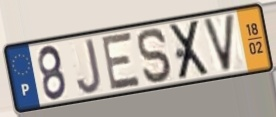8: (36, 43, 68, 103)
E: (100, 30, 143, 93)
J: (75, 36, 103, 96)
S: (136, 26, 175, 85)
V: (200, 11, 237, 75)
X: (168, 17, 212, 83)
